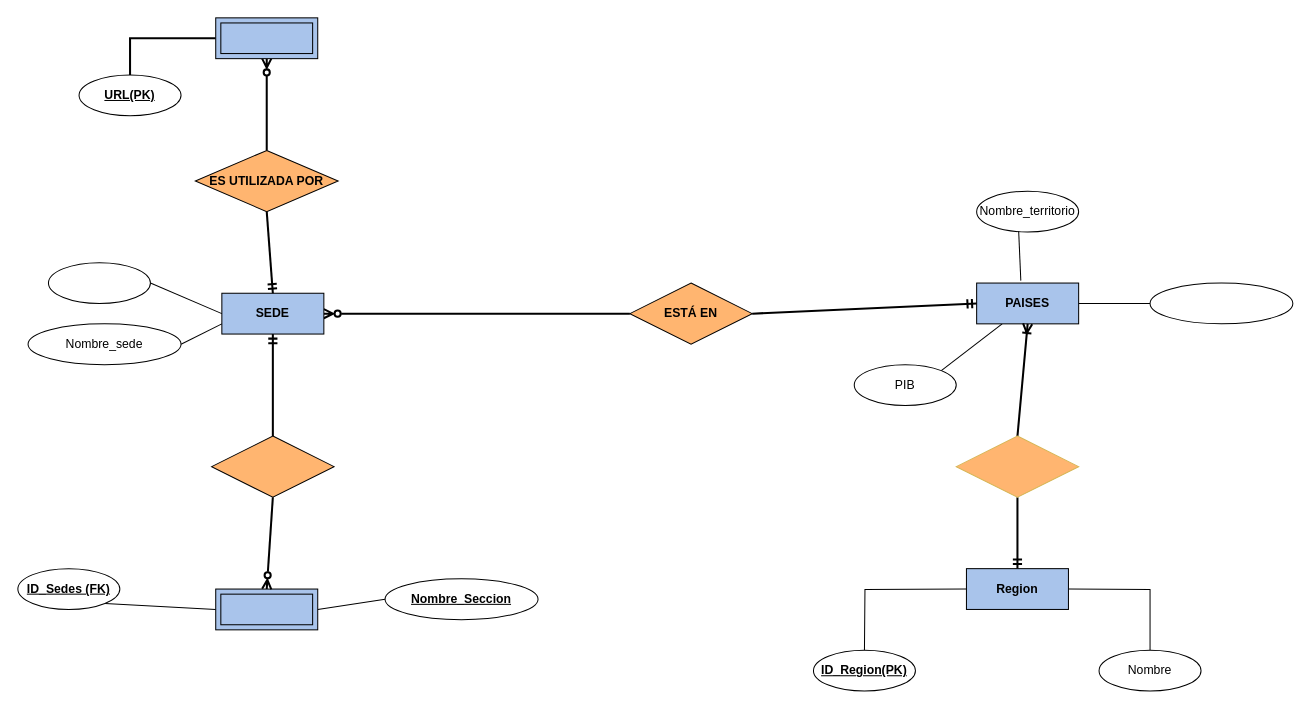
Image size: 1311x709. Some labels were removed from this diagram. The centre of each missing label's shape, as x and y in pixels:
Codigo_pais(PK): (x=1221, y=303)
ID_Sedes(PK): (x=98, y=282)
PERTENECE: (x=1017, y=466)
RED SOCIAL: (x=266, y=38)
SECCIONES: (x=266, y=609)
TIENE: (x=272, y=466)
